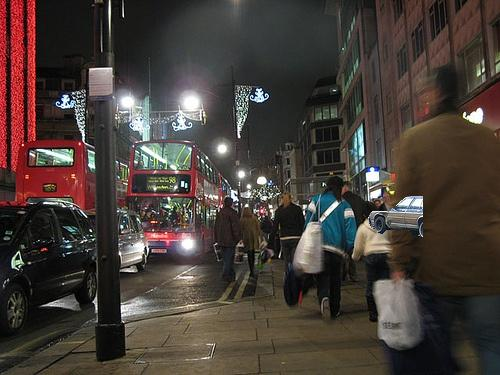tampered: (368, 197, 423, 237)
